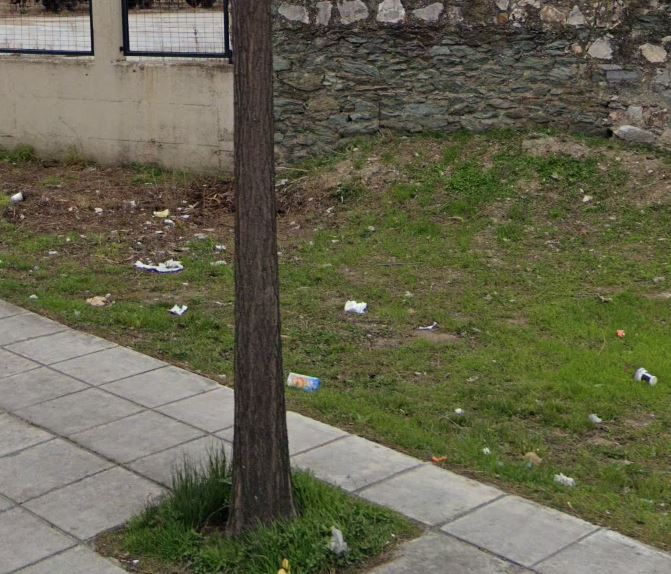trash: (286, 366, 328, 397), (316, 521, 358, 552), (628, 353, 660, 392), (130, 255, 199, 272), (334, 294, 376, 315), (4, 187, 27, 207), (166, 298, 189, 317)
